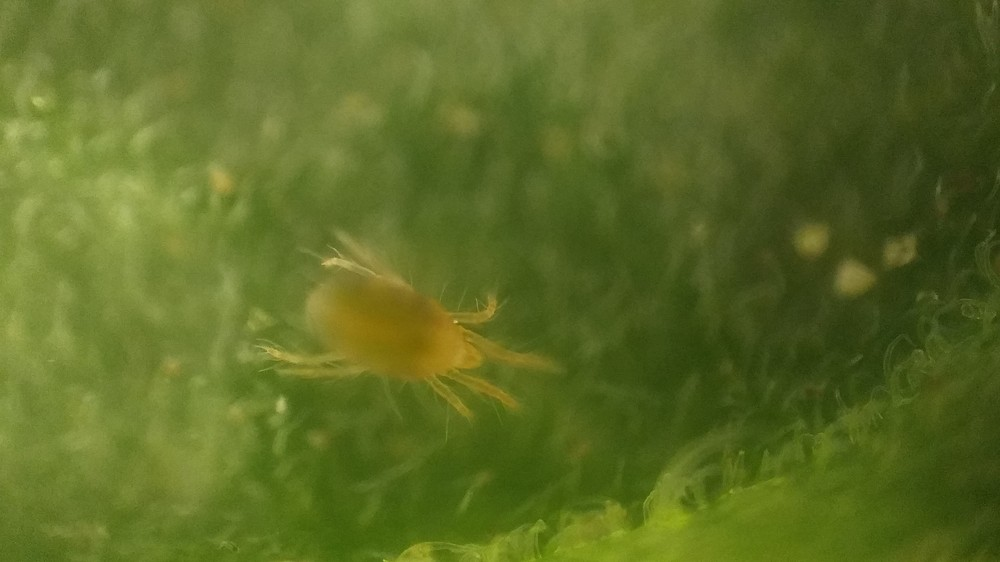Aracnido Rojo: (240, 211, 598, 455)
